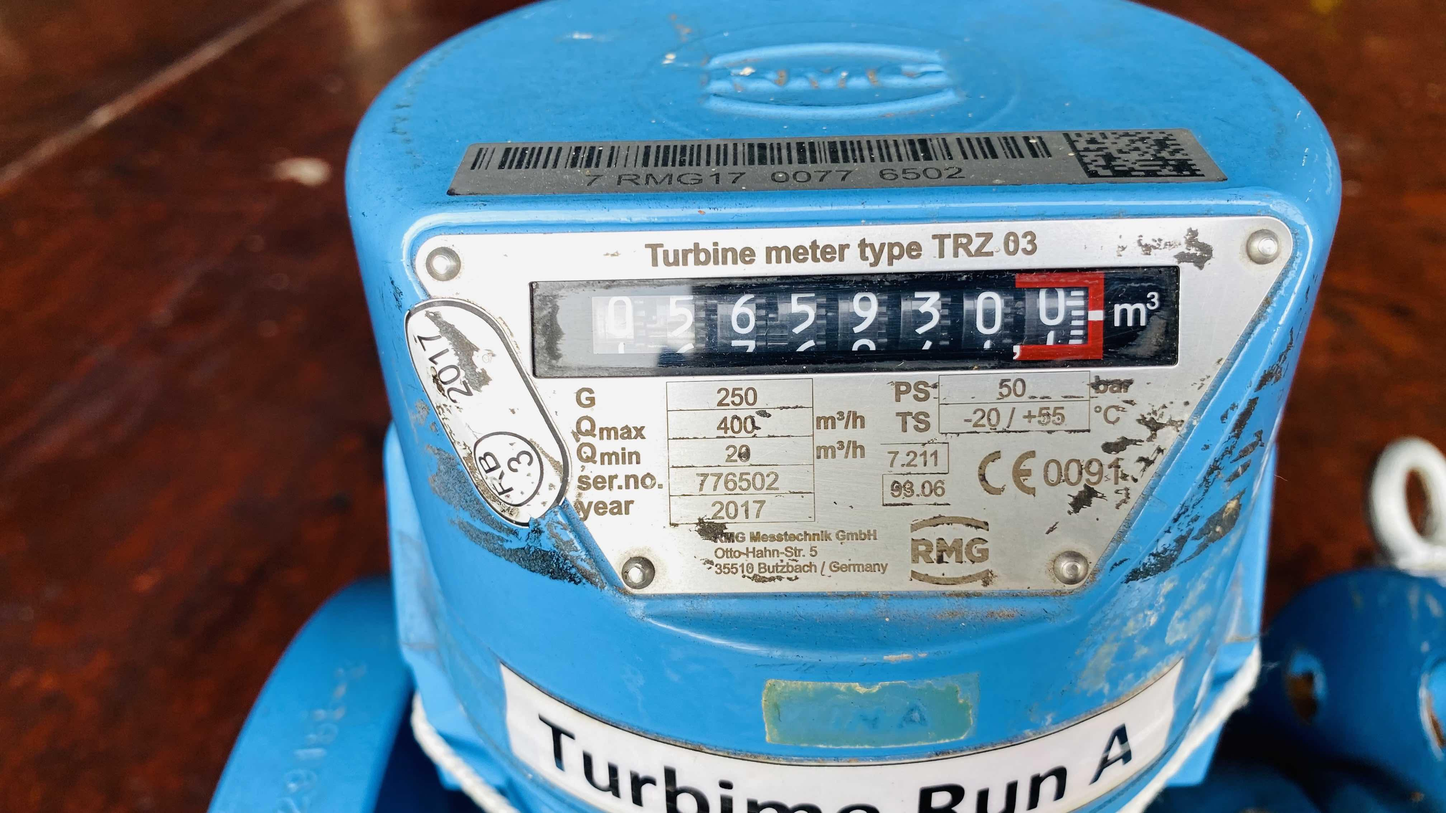analog_dial: (530, 266, 1181, 380)
